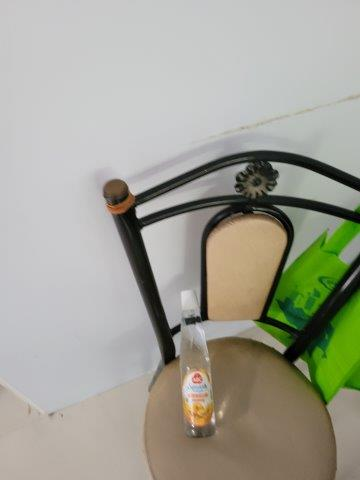botolkaca: (178, 290, 216, 438)
